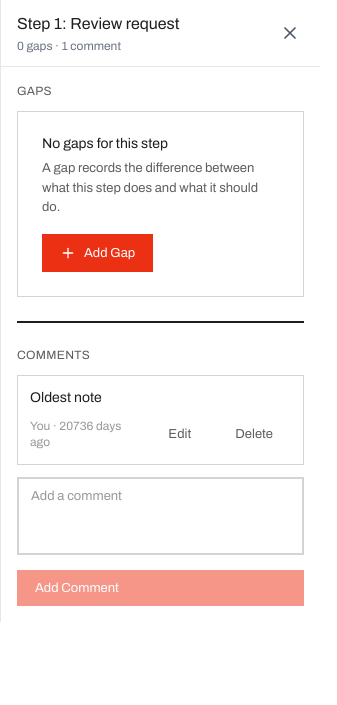
Test: CommentsSection in RightPanel › submits an edit on Enter, like the composer
Click the button with aria-label "Edit comment:".
click(180, 434)  # box [150,416,209,452]
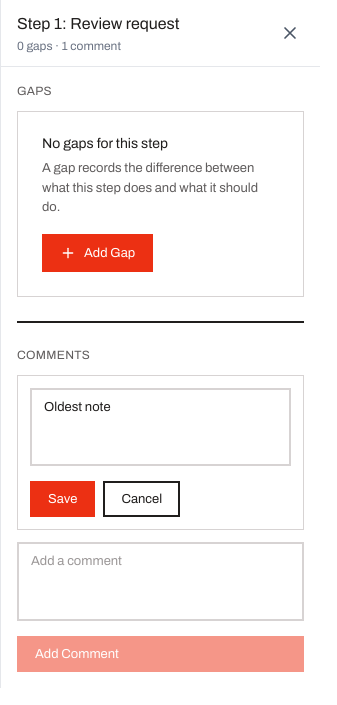
Replace the text in the text box named "Edit comment" with "Rewritten by keyboard" at (160, 427), box [30,388,291,466]
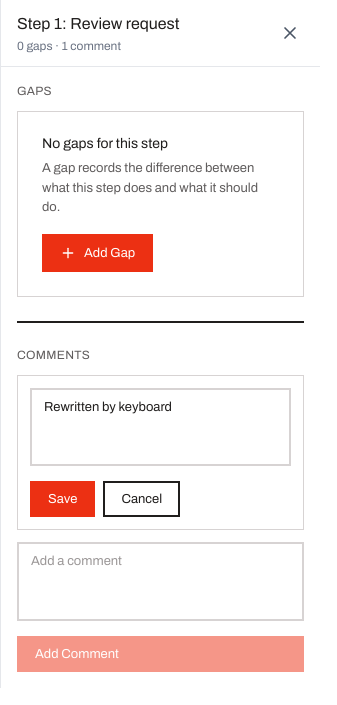
Press Enter in the text box named "Edit comment", box [30,388,291,466]
Press Enter in the text box named "Edit comment", box [30,388,291,466]
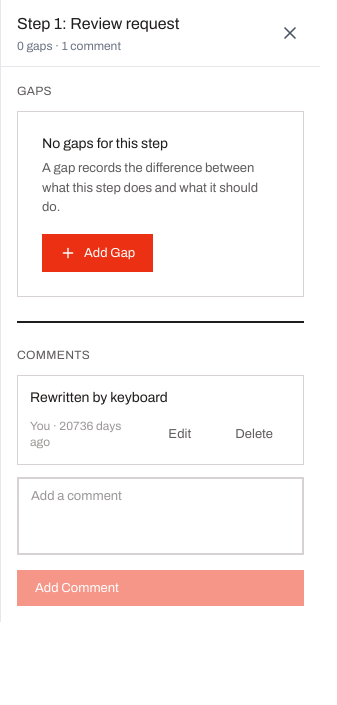
Now the text "Rewritten by keyboard" is shown, box [30,390,168,404]
